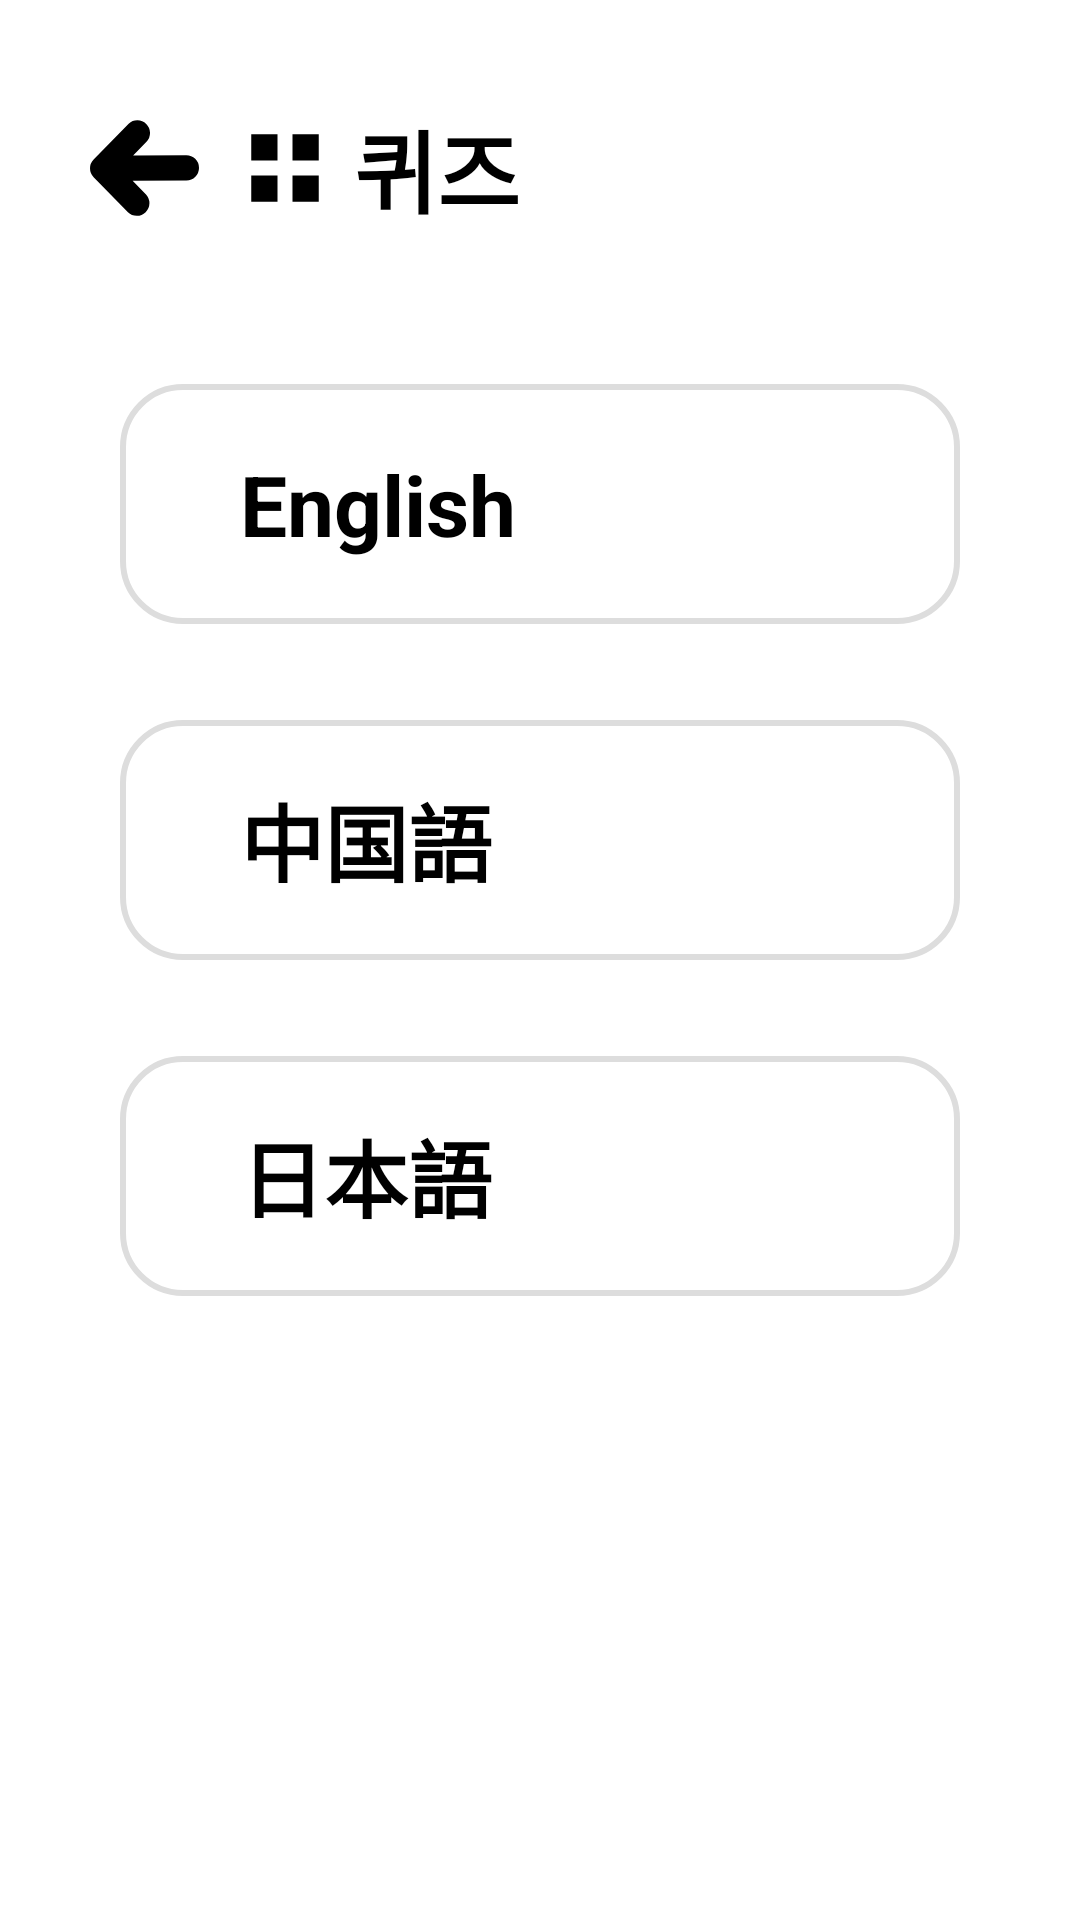

Icon click points for this 1080*1920 phone screenshot, format (x,y):
뒤로가기: (144,168)
